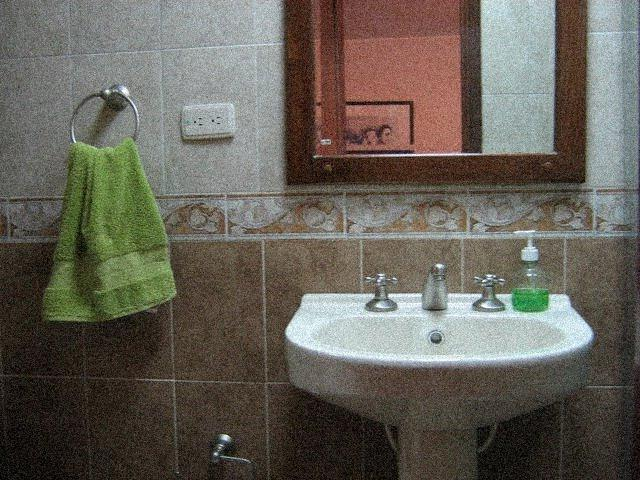Lavamanos: (278, 239, 579, 421)
